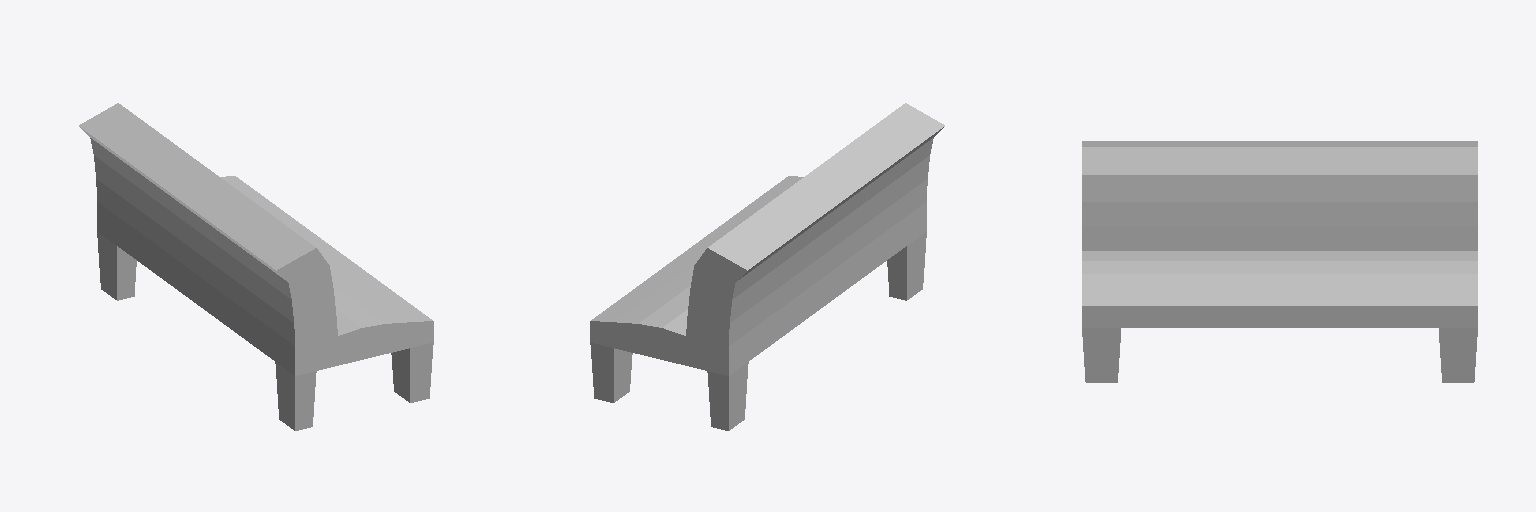
The model's file is Bench.obj.
3 renders of one model, left to right at view 1: azimuth 30°, elevation 25°; view 2: azimuth 150°, elevation 25°; view 3: azimuth 270°, elevation 25°, orthographic.
Visible parts, largest first — view 1: Cube; view 2: Cube; view 3: Cube.
Part boxes in pixels (x1,y1,x2,y2): Cube: (79, 103, 433, 430); Cube: (590, 103, 944, 430); Cube: (1082, 141, 1477, 382).
Size of the model in its own units: 1.89 by 2.07 by 4.12.